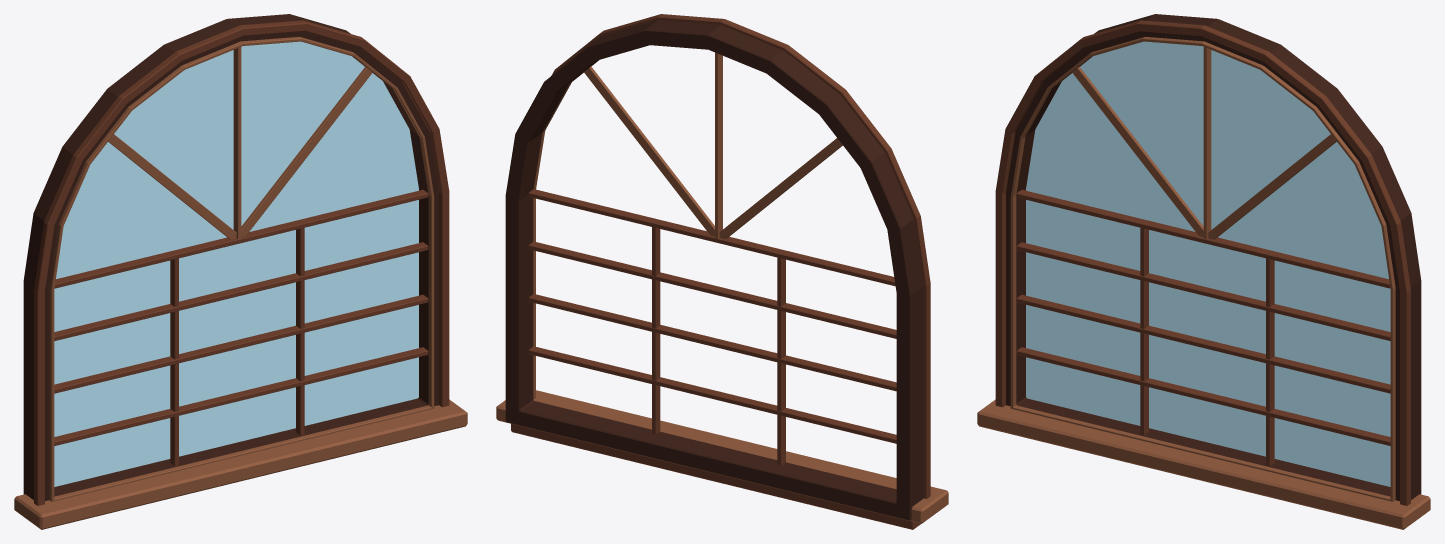
Rendered from window_01.glb.
3 views of the same model, side by side, from view 1: azimuth 30°, elevation 25°; view 2: azimuth 150°, elevation 25°; view 3: azimuth 330°, elevation 25° (orthographic).
Visible parts, largest first — view 1: Glass, Deep_frame, Raised_moulding, Sill, Inner_bead, Transom_3, Transom_1, Transom_2, Transom_4, Fan_ray_1, Mullion_2, Mullion_1 (+2 smaller); view 2: Deep_frame, Raised_moulding, Sill, Sill_apron, Transom_1, Transom_3, Transom_2, Transom_4, Fan_ray_1, Inner_bead, Mullion_1, Mullion_2 (+2 smaller); view 3: Glass, Deep_frame, Raised_moulding, Sill, Inner_bead, Transom_3, Transom_1, Transom_2, Transom_4, Fan_ray_3, Mullion_1, Mullion_2 (+2 smaller).
Boxes of the visible parts, bbox=[...] form: Glass: bbox=[54, 41, 418, 486]; Deep_frame: bbox=[23, 14, 438, 500]; Raised_moulding: bbox=[34, 20, 449, 505]; Sill: bbox=[14, 399, 467, 529]; Inner_bead: bbox=[49, 36, 434, 501]; Transom_3: bbox=[54, 242, 428, 340]; Transom_1: bbox=[54, 347, 428, 445]; Transom_2: bbox=[54, 294, 428, 393]; Transom_4: bbox=[54, 189, 428, 288]; Fan_ray_1: bbox=[236, 67, 372, 237]; Mullion_2: bbox=[296, 227, 304, 435]; Mullion_1: bbox=[170, 258, 178, 466]; Deep_frame: bbox=[505, 20, 923, 520]; Raised_moulding: bbox=[551, 14, 930, 498]; Sill: bbox=[496, 390, 948, 523]; Sill_apron: bbox=[511, 424, 920, 529]; Transom_1: bbox=[528, 346, 896, 443]; Transom_3: bbox=[528, 241, 896, 338]; Transom_2: bbox=[528, 294, 896, 391]; Transom_4: bbox=[528, 189, 895, 286]; Fan_ray_1: bbox=[584, 66, 719, 237]; Inner_bead: bbox=[533, 60, 896, 489]; Mullion_1: bbox=[777, 257, 785, 465]; Mullion_2: bbox=[652, 227, 660, 434]; Glass: bbox=[1026, 41, 1390, 486]; Deep_frame: bbox=[1006, 14, 1421, 500]; Raised_moulding: bbox=[995, 20, 1410, 505]; Sill: bbox=[977, 399, 1430, 529]; Inner_bead: bbox=[1010, 36, 1395, 501]; Transom_3: bbox=[1016, 242, 1390, 340]; Transom_1: bbox=[1016, 347, 1390, 445]; Transom_2: bbox=[1016, 294, 1390, 393]; Transom_4: bbox=[1016, 189, 1390, 288]; Fan_ray_3: bbox=[1072, 67, 1208, 237]; Mullion_1: bbox=[1140, 227, 1148, 435]; Mullion_2: bbox=[1266, 258, 1274, 466].
Size of the model in its own units: 3.52 by 3.57 by 0.405.
